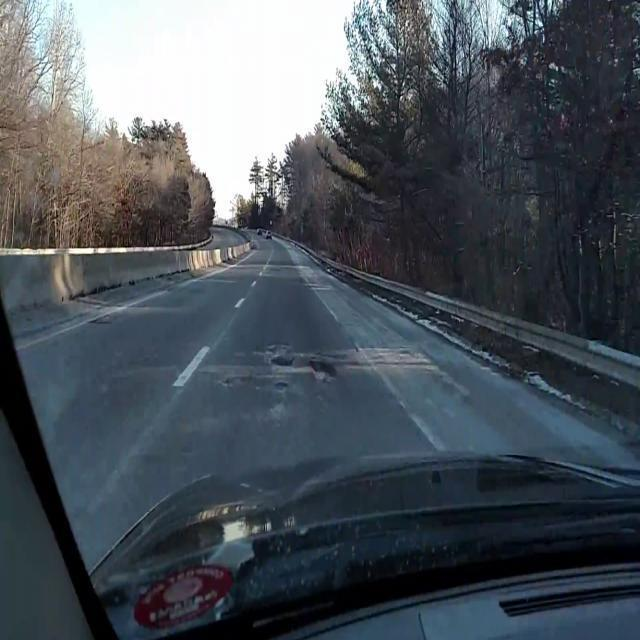pothole: (310, 360, 337, 380), (270, 354, 292, 370)
